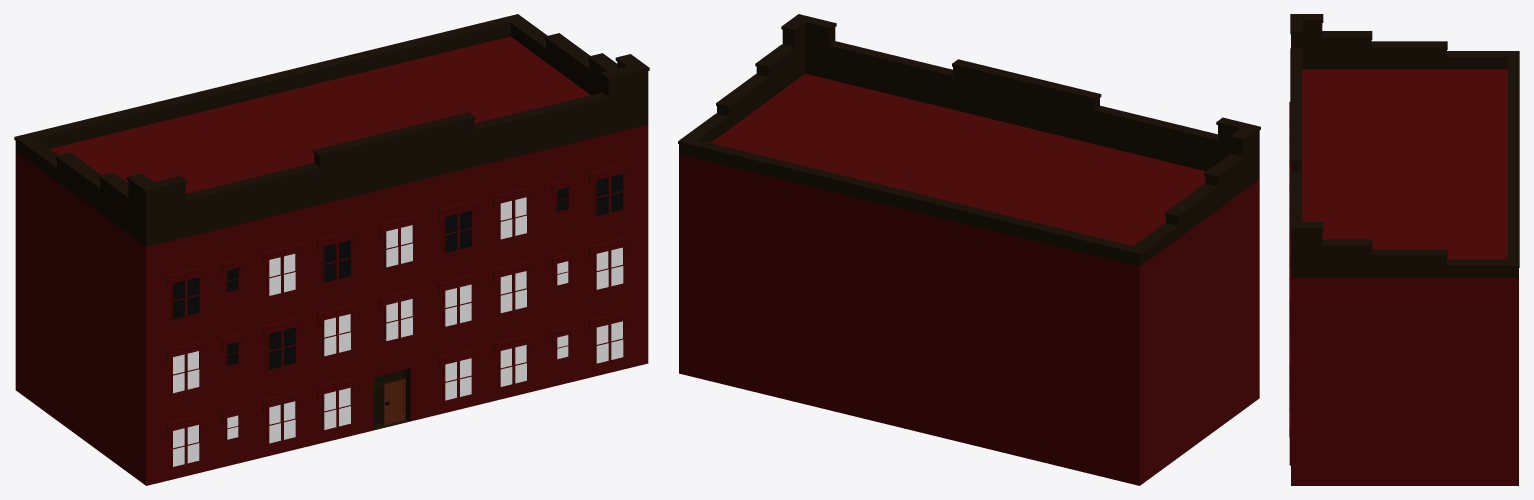
Rendered from building2.FBX.
The picture shows the model from 3 angles, left to right: view 1: azimuth 30°, elevation 25°; view 2: azimuth 150°, elevation 25°; view 3: azimuth 270°, elevation 25°; orthographic projection. The views are drawn at different scales.
Visible parts, largest first — view 1: Building_C; view 2: Building_C; view 3: Building_C.
Boxes of the visible parts, left/top/right/bottom form: Building_C: left=14, top=14, right=649, bottom=485; Building_C: left=678, top=14, right=1260, bottom=485; Building_C: left=1289, top=14, right=1519, bottom=485.
Size of the model in its own units: 1988 by 1115 by 902.
